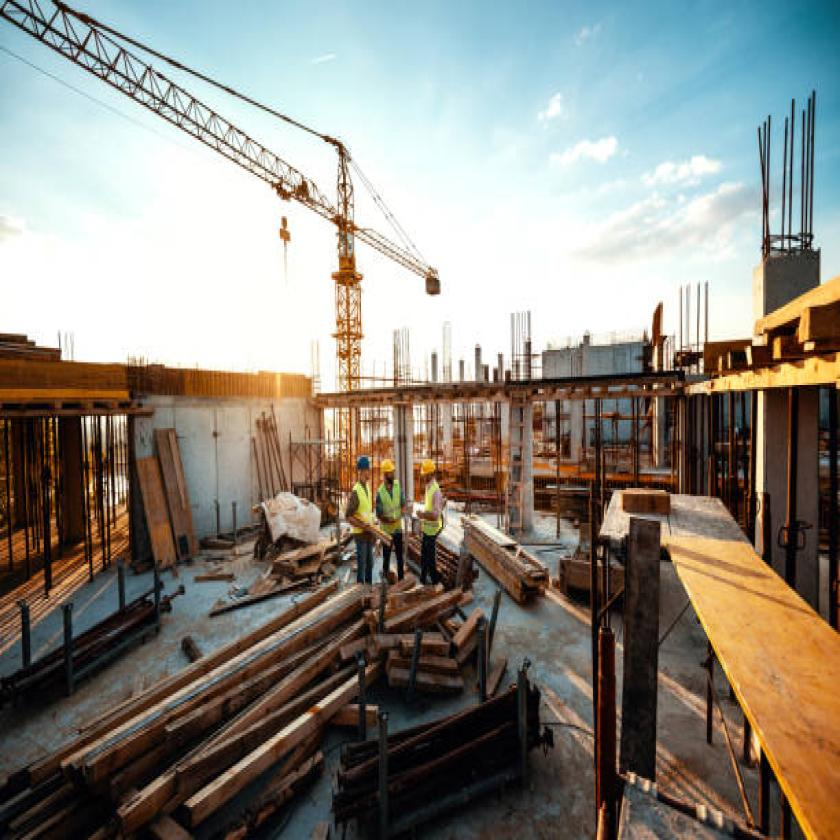Con_casco: (345, 433, 379, 505), (373, 446, 408, 500), (421, 450, 444, 500)
